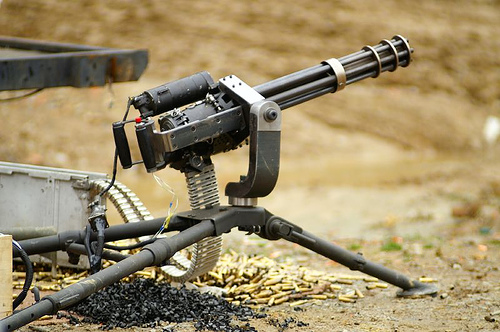rifle: (3, 18, 424, 319)
